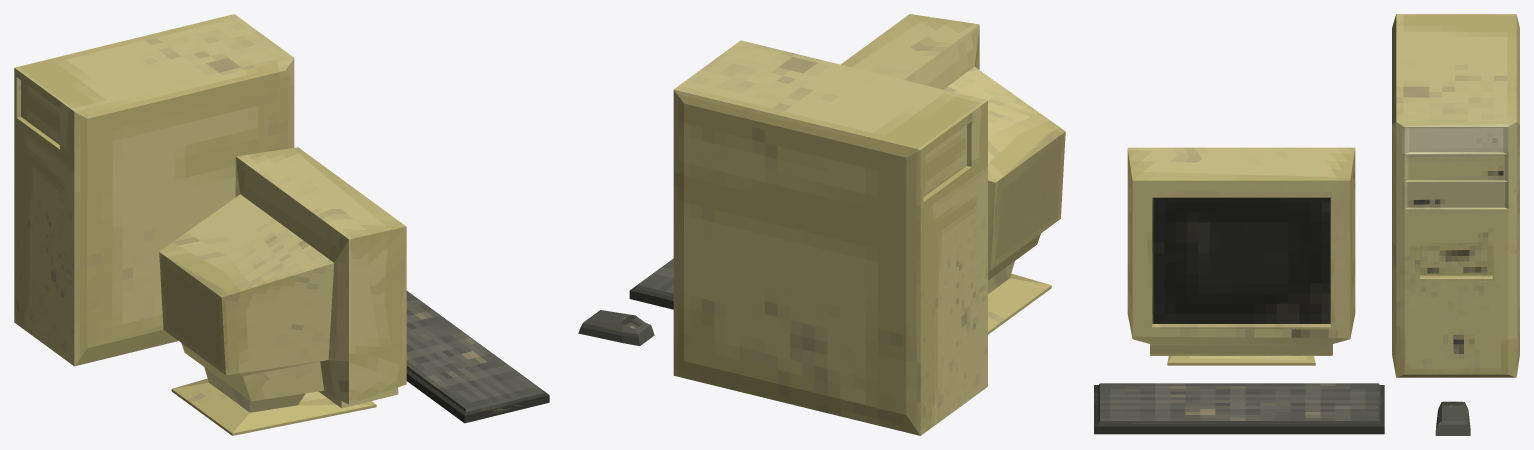
File: computerFBX.fbx
The picture shows the model from 3 angles, left to right: view 1: azimuth 30°, elevation 25°; view 2: azimuth 150°, elevation 25°; view 3: azimuth 270°, elevation 25°; orthographic projection. The views are drawn at different scales.
Visible parts, largest first — view 1: tower, monitor, keyboard; view 2: tower, monitor, mouse, keyboard; view 3: monitor, tower, keyboard, mouse.
Boxes of the visible parts, x1,y1,x2,y2 form: tower: (14,14,294,366); monitor: (159,147,406,435); keyboard: (406,291,549,423); tower: (673,40,987,435); monitor: (841,14,1065,334); mouse: (578,310,654,345); keyboard: (629,258,673,309); monitor: (1127,147,1355,365); tower: (1392,14,1519,377); keyboard: (1094,383,1384,434); mouse: (1435,401,1470,435).
Bounding box in the file's own units: 6.38 × 4.84 × 7.15.
